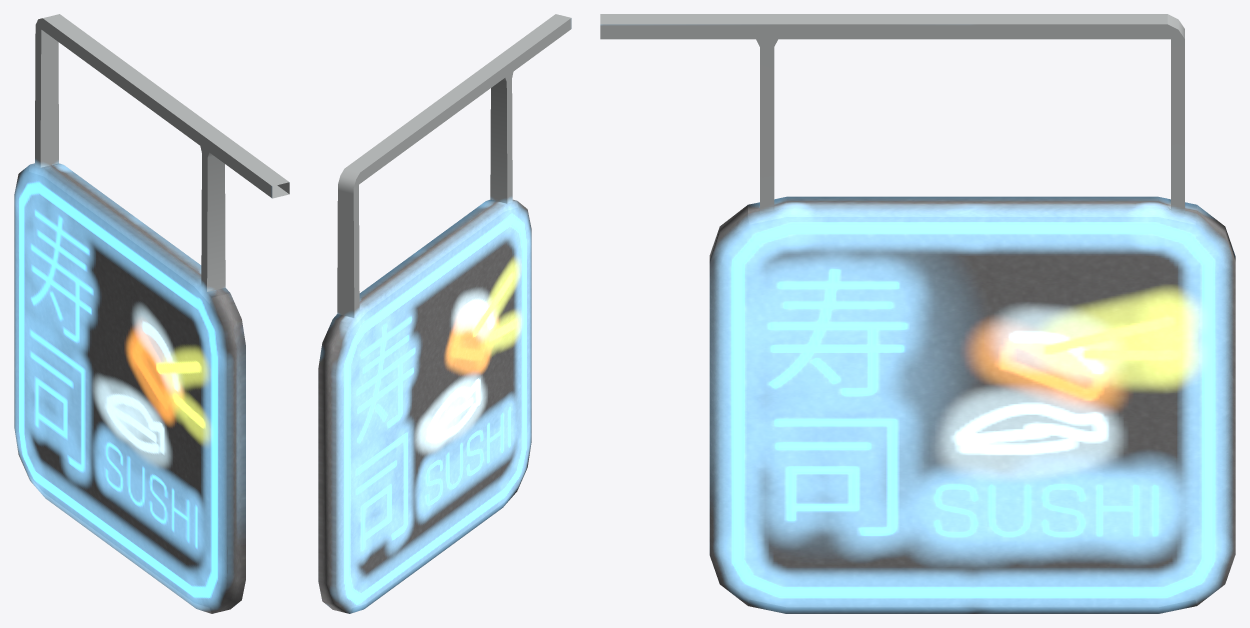
File: neon_sushi_sign.glb
3 renders of one model, left to right at view 1: azimuth 30°, elevation 25°; view 2: azimuth 150°, elevation 25°; view 3: azimuth 270°, elevation 25°, orthographic. The views are drawn at different scales.
Parts seen in each view (by area): view 1: Cube; view 2: Cube; view 3: Cube.
Boxes of the visible parts, bbox=[...] form: Cube: bbox=[14, 14, 289, 613]; Cube: bbox=[318, 14, 571, 613]; Cube: bbox=[600, 14, 1235, 613].
Bounding box in the file's own units: 31.12 × 542 × 530.
Materials: 1 (1 with a texture image).
